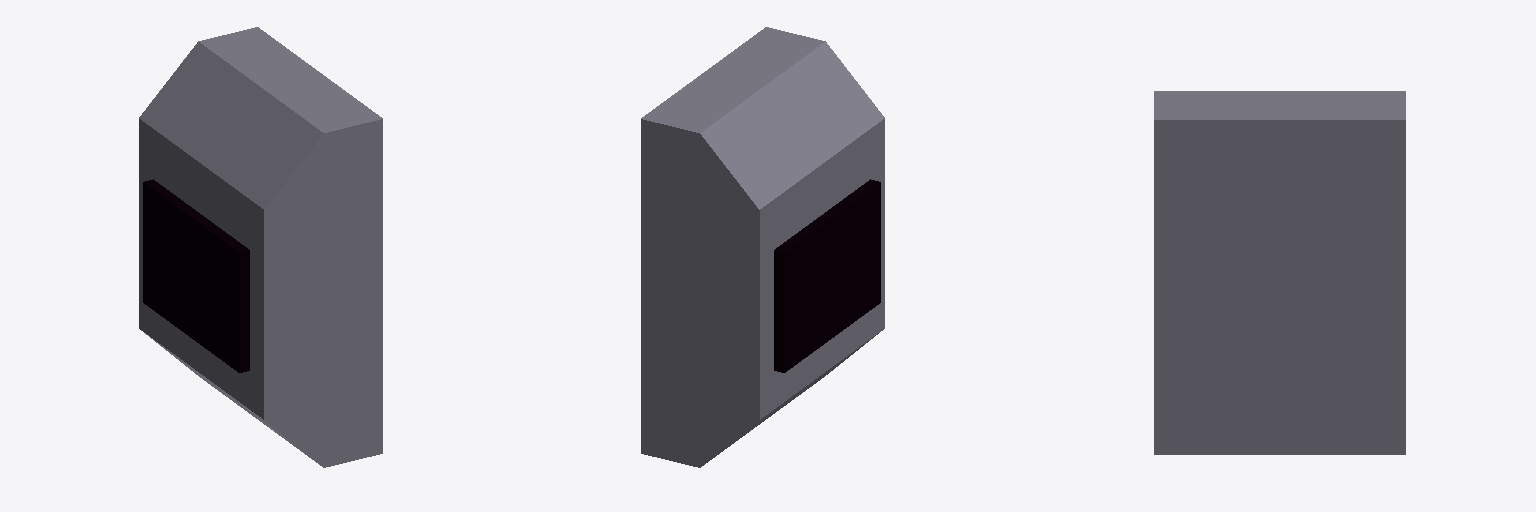
3 renders of one model, left to right at view 1: azimuth 30°, elevation 25°; view 2: azimuth 150°, elevation 25°; view 3: azimuth 270°, elevation 25°, orthographic.
Visible parts, largest first — view 1: pCube2, pCube3; view 2: pCube2, pCube3; view 3: pCube2.
Part boxes in pixels (x1,y1,x2,y2): pCube2: (139, 27, 382, 467); pCube3: (143, 179, 249, 372); pCube2: (641, 27, 884, 467); pCube3: (774, 179, 880, 372); pCube2: (1154, 91, 1405, 454).
Bounding box in the file's own units: 0.2916 × 0.7214 × 0.491.
Materials: 2 (2 with a texture image).